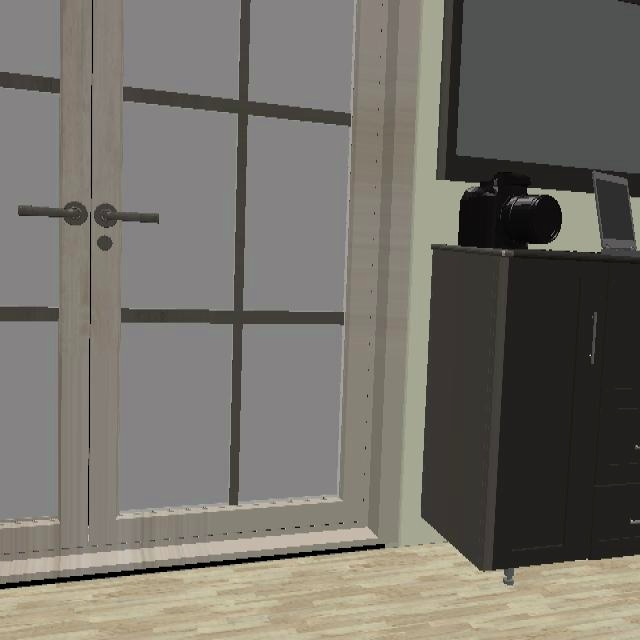cabinet: (419, 244, 640, 573)
laptop: (593, 171, 636, 252)
